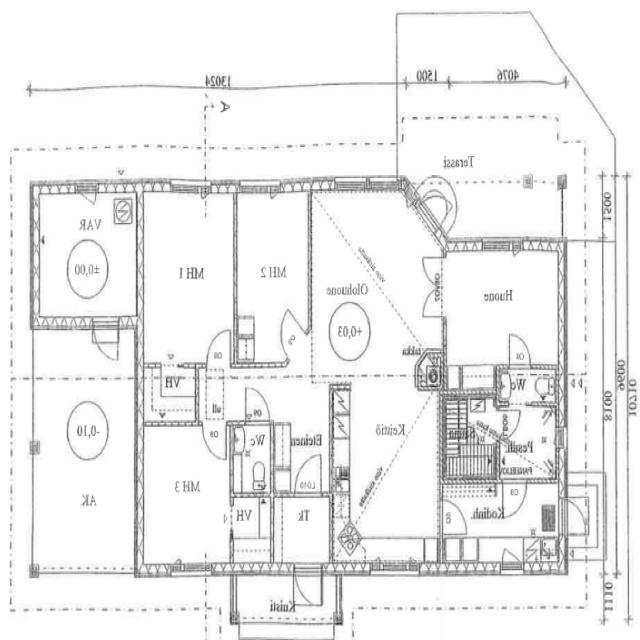door: (417, 175, 458, 235), (270, 309, 307, 360), (295, 562, 322, 614), (93, 316, 119, 366), (558, 499, 593, 535), (295, 454, 322, 498), (439, 500, 466, 534), (245, 387, 269, 425), (503, 478, 526, 516), (207, 329, 230, 367), (203, 421, 226, 458), (510, 335, 531, 370), (422, 258, 447, 287), (422, 287, 447, 316), (496, 412, 520, 439)
